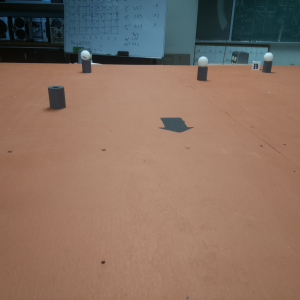obstacle: (48, 85, 67, 109), (196, 55, 209, 81), (79, 49, 92, 74), (263, 52, 273, 72)
